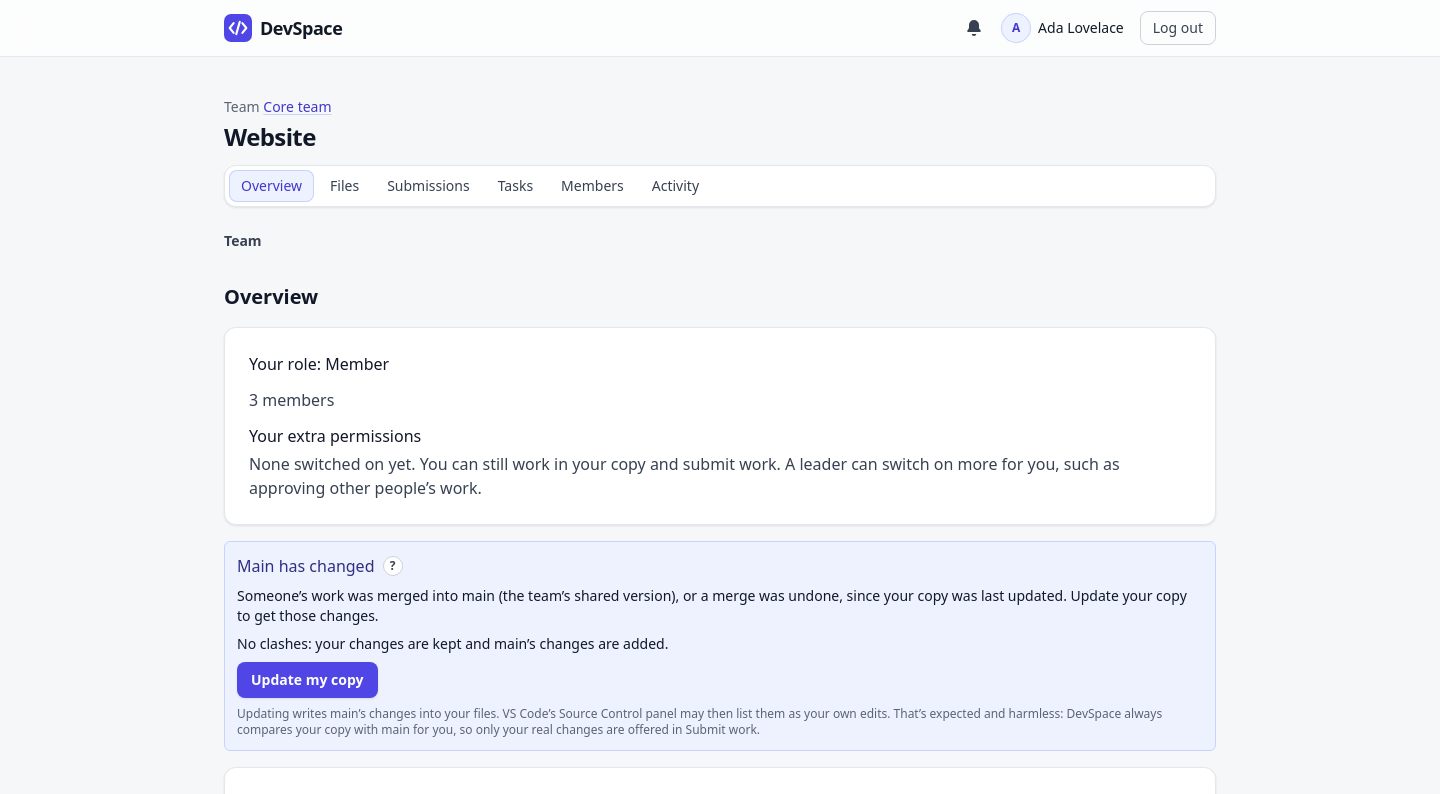
Test: Update my copy on the overview › says so when an update has no clashes
This screenshot has width=1440, height=794.
Expected: the text "No clashes" is shown, [237,634,668,653]
Click the button "Update my copy" at (307, 680), box [237,662,378,698]
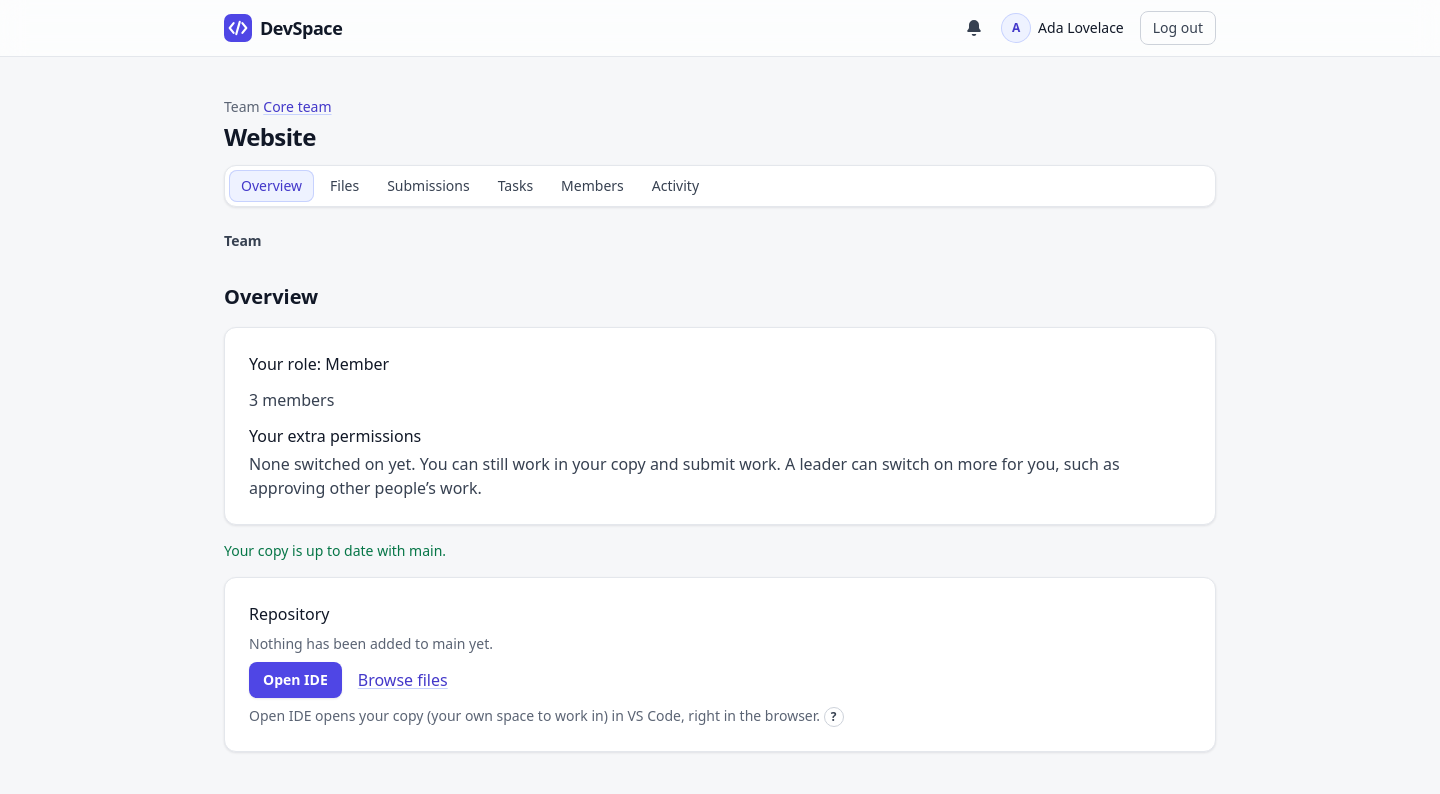
Expected: the text "Your copy is up to date with main." is shown, [224,541,446,560]
